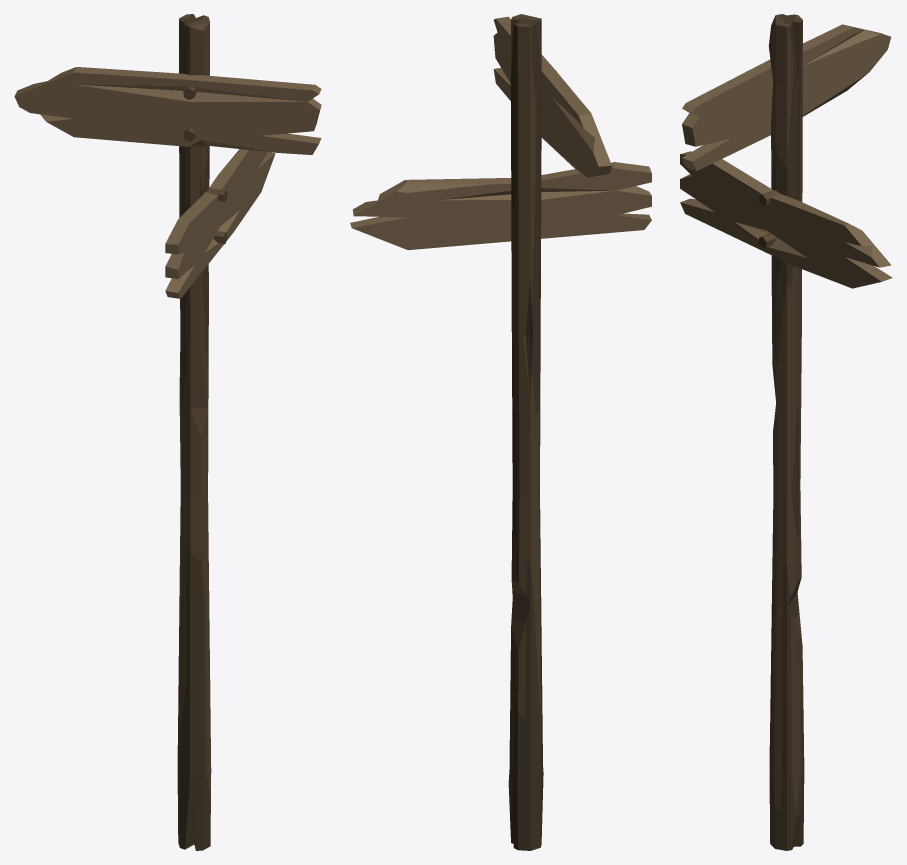
File: SM_Prop_Sign_03.fbx
3 renders of one model, left to right at view 1: azimuth 30°, elevation 25°; view 2: azimuth 150°, elevation 25°; view 3: azimuth 270°, elevation 25°, orthographic.
Parts seen in each view (by area): view 1: SM_Prop_Sign_03; view 2: SM_Prop_Sign_03; view 3: SM_Prop_Sign_03.
Boxes of the visible parts, <box> form: SM_Prop_Sign_03: <box>14,14,321,850</box>; SM_Prop_Sign_03: <box>350,14,651,850</box>; SM_Prop_Sign_03: <box>680,14,892,850</box>.
Size of the model in its own units: 98.18 by 296 by 69.2.
Materials: 1 (1 with a texture image).
